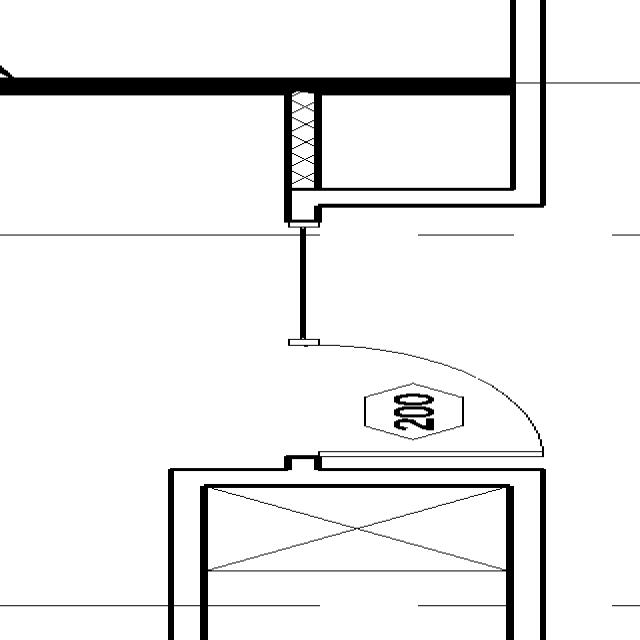Doors: (283, 338, 557, 463)
